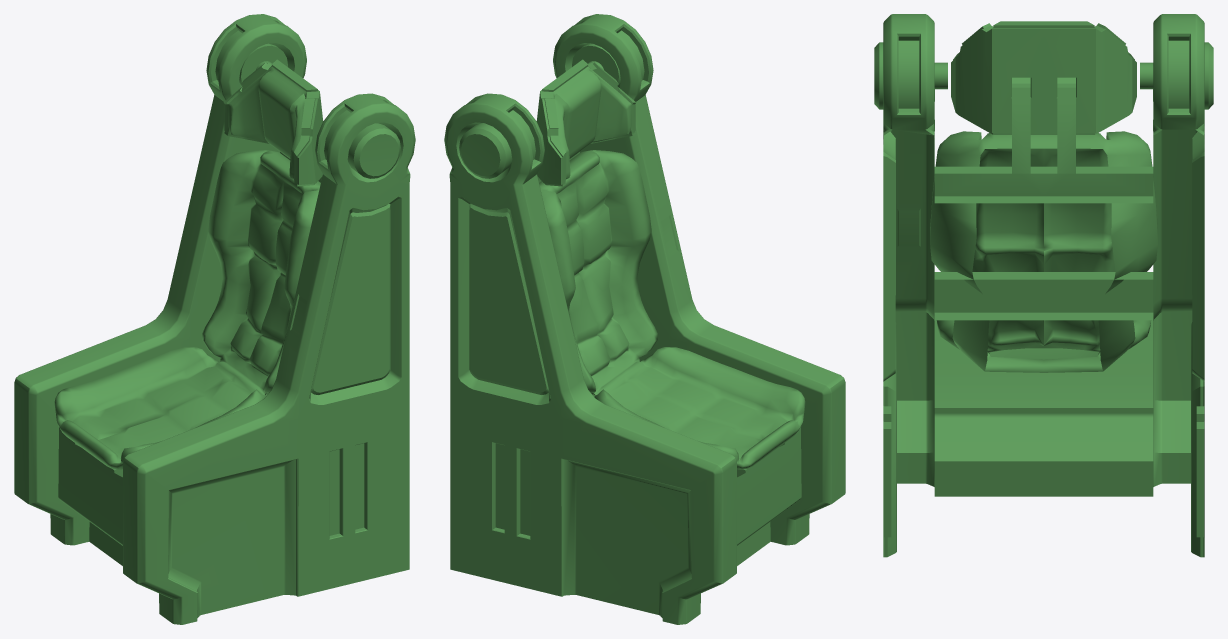
File: REENTRY_CRAFT_SEAT_bface_del_mesh.fbx
3 views of the same model, side by side, from view 1: azimuth 30°, elevation 25°; view 2: azimuth 150°, elevation 25°; view 3: azimuth 270°, elevation 25° (orthographic). The views are drawn at different scales.
Parts seen in each view (by area): view 1: EPOD_CHAIR_MAIN_del_bface_GEO; view 2: EPOD_CHAIR_MAIN_del_bface_GEO; view 3: EPOD_CHAIR_MAIN_del_bface_GEO.
Boxes of the visible parts, <box> form: EPOD_CHAIR_MAIN_del_bface_GEO: <box>14,14,415,624</box>; EPOD_CHAIR_MAIN_del_bface_GEO: <box>444,14,845,624</box>; EPOD_CHAIR_MAIN_del_bface_GEO: <box>874,14,1213,557</box>.
Size of the model in its own units: 1.09 by 1.76 by 0.9253.
